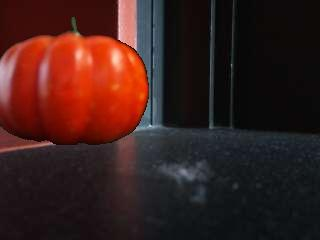Pumpkin: (1, 17, 149, 146)
